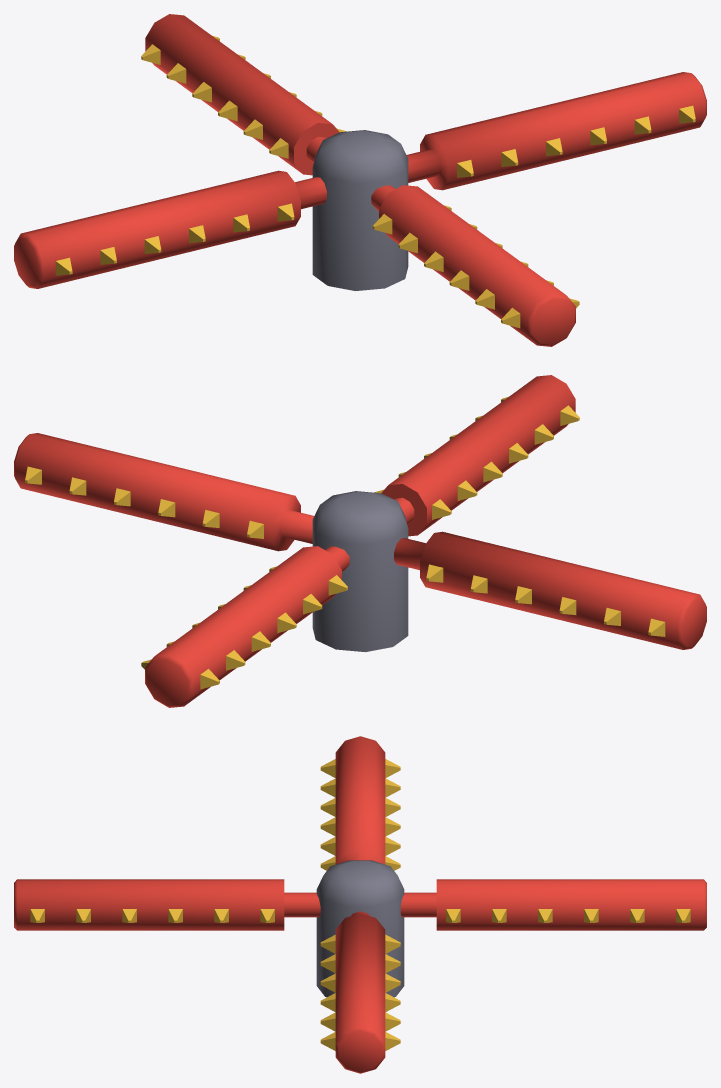
File: obstacle-rot-two.fbx
3 views of the same model, one above another, from view 1: azimuth 30°, elevation 25°; view 2: azimuth 150°, elevation 25°; view 3: azimuth 270°, elevation 25° (orthographic). The views are drawn at different scales.
Parts seen in each view (by area): view 1: obstacle-rot-two.001, obstacle-rot-two.002, obstacle-rot-two; view 2: obstacle-rot-two.001, obstacle-rot-two.002, obstacle-rot-two; view 3: obstacle-rot-two.002, obstacle-rot-two.001, obstacle-rot-two.
Boxes of the visible parts, bbox=[...] form: obstacle-rot-two.001: bbox=[14, 72, 706, 288]; obstacle-rot-two.002: bbox=[141, 14, 579, 346]; obstacle-rot-two: bbox=[312, 130, 408, 290]; obstacle-rot-two.001: bbox=[14, 433, 706, 649]; obstacle-rot-two.002: bbox=[141, 375, 579, 707]; obstacle-rot-two: bbox=[312, 491, 408, 652]; obstacle-rot-two.002: bbox=[14, 879, 706, 930]; obstacle-rot-two.001: bbox=[320, 736, 400, 1073]; obstacle-rot-two: bbox=[316, 860, 404, 997].
Bounding box in the file's own units: 1.41 × 0.2614 × 1.41.
